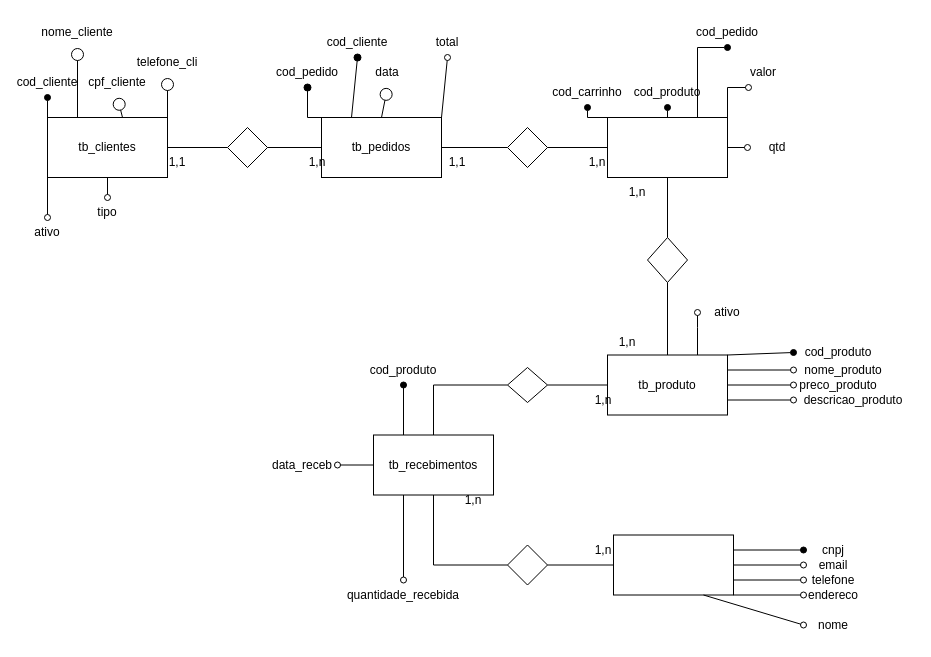
Image size: 931x657. Some labels were removed from this diagram. The centre of each missing label's shape, as x and y in pixels:
"tb_carrinho" belongs at [667,147].
"tb_fornecedor" belongs at [673,564].
